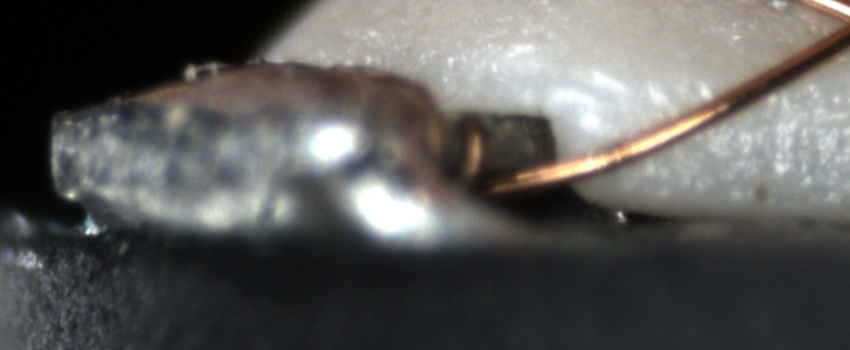DL: (762, 84, 849, 148)
TE: (429, 102, 490, 200)
